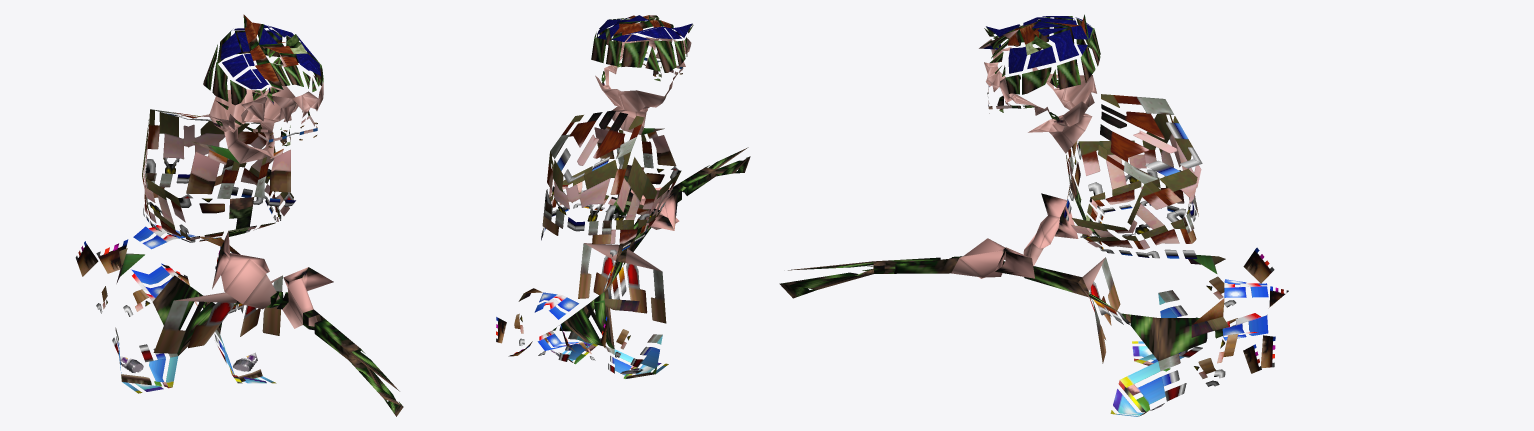
The picture shows the model from 3 angles, left to right: view 1: azimuth 30°, elevation 25°; view 2: azimuth 150°, elevation 25°; view 3: azimuth 270°, elevation 25°; orthographic projection. The views are drawn at different scales.
Parts seen in each view (by area): view 1: T1L2M008_8; view 2: T1L2M008_8; view 3: T1L2M008_8.
Boxes of the visible parts, left/top/right/bottom form: T1L2M008_8: left=75, top=14, right=403, bottom=416; T1L2M008_8: left=496, top=15, right=750, bottom=378; T1L2M008_8: left=779, top=14, right=1288, bottom=416.
Size of the model in its own units: 0.502 by 0.9614 by 1.67.
